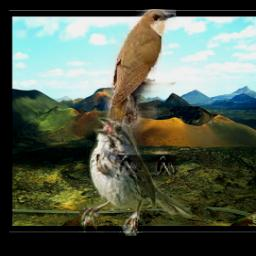Cuckoo: (98, 10, 177, 176)
Sparrow: (78, 115, 193, 236)
